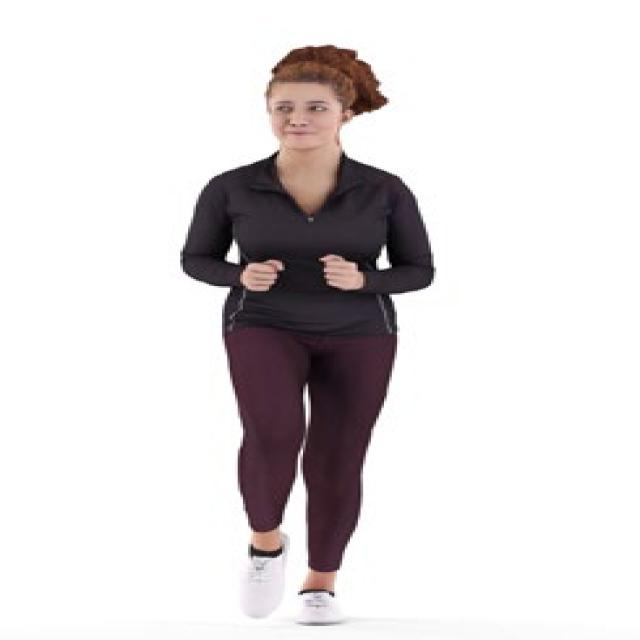running: (172, 40, 444, 640)
